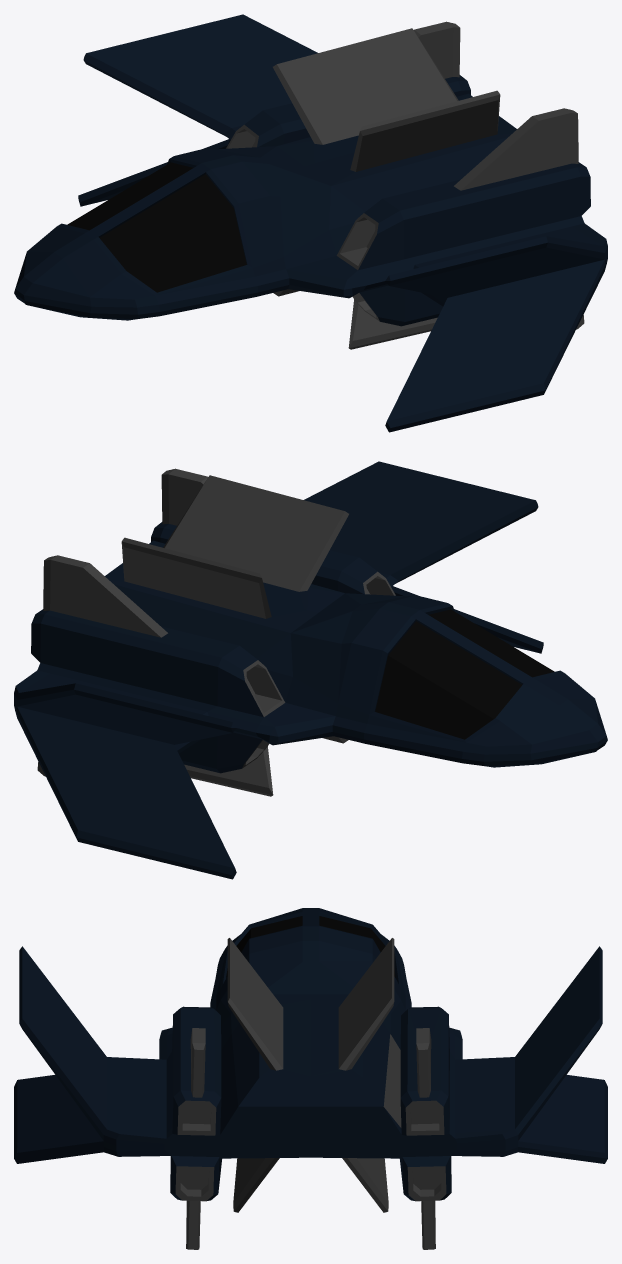
The model's file is EnemyBlueModel.FBX.
3 renders of one model, top to bottom at view 1: azimuth 30°, elevation 25°; view 2: azimuth 150°, elevation 25°; view 3: azimuth 270°, elevation 25°, orthographic. The views are drawn at different scales.
Visible parts, largest first — view 1: Ship Short; view 2: Ship Short; view 3: Ship Short.
Part boxes in pixels (left/top/right/bottom): Ship Short: left=14, top=14, right=607, bottom=432; Ship Short: left=14, top=461, right=607, bottom=879; Ship Short: left=14, top=908, right=607, bottom=1249.
Size of the model in its own units: 175 by 78.6 by 188.
